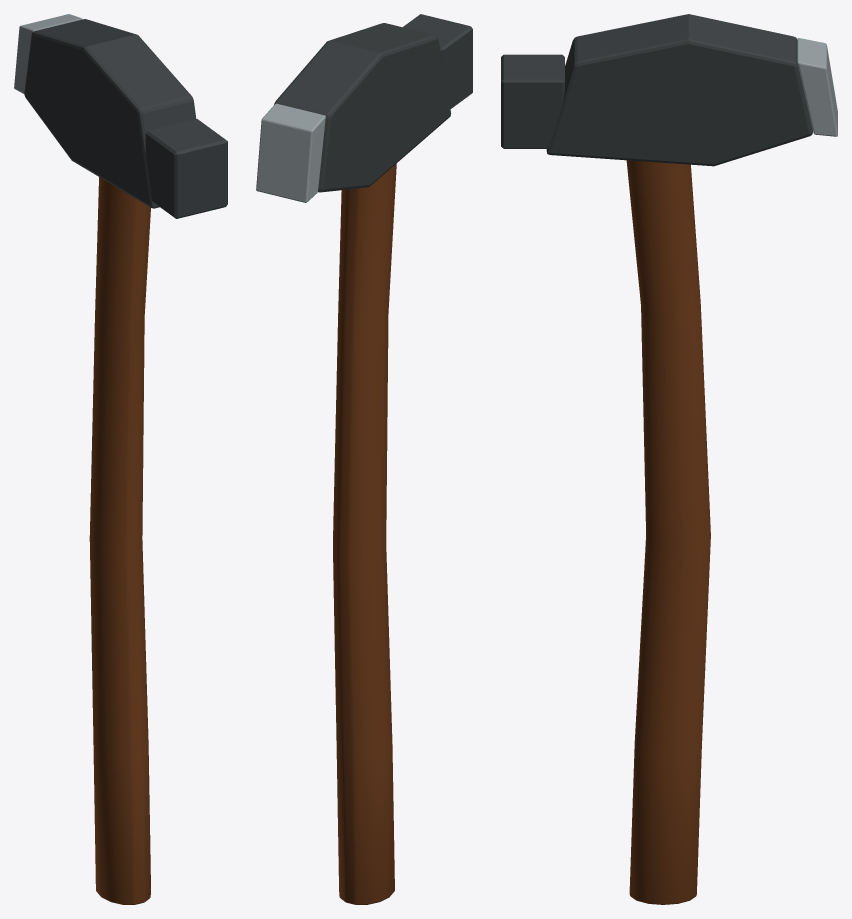
Rendered from axe.glb.
3 views of the same model, side by side, from view 1: azimuth 30°, elevation 25°; view 2: azimuth 150°, elevation 25°; view 3: azimuth 270°, elevation 25° (orthographic). The views are drawn at different scales.
Parts seen in each view (by area): view 1: axe; view 2: axe; view 3: axe.
Boxes of the visible parts, x1,y1,x2,y2 form: axe: (14, 14, 227, 904); axe: (256, 14, 472, 904); axe: (501, 14, 837, 904).
Bounding box in the file's own units: 0.052 × 0.75 × 0.2638.
